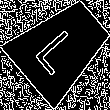L_NE: (33, 20, 89, 76)
